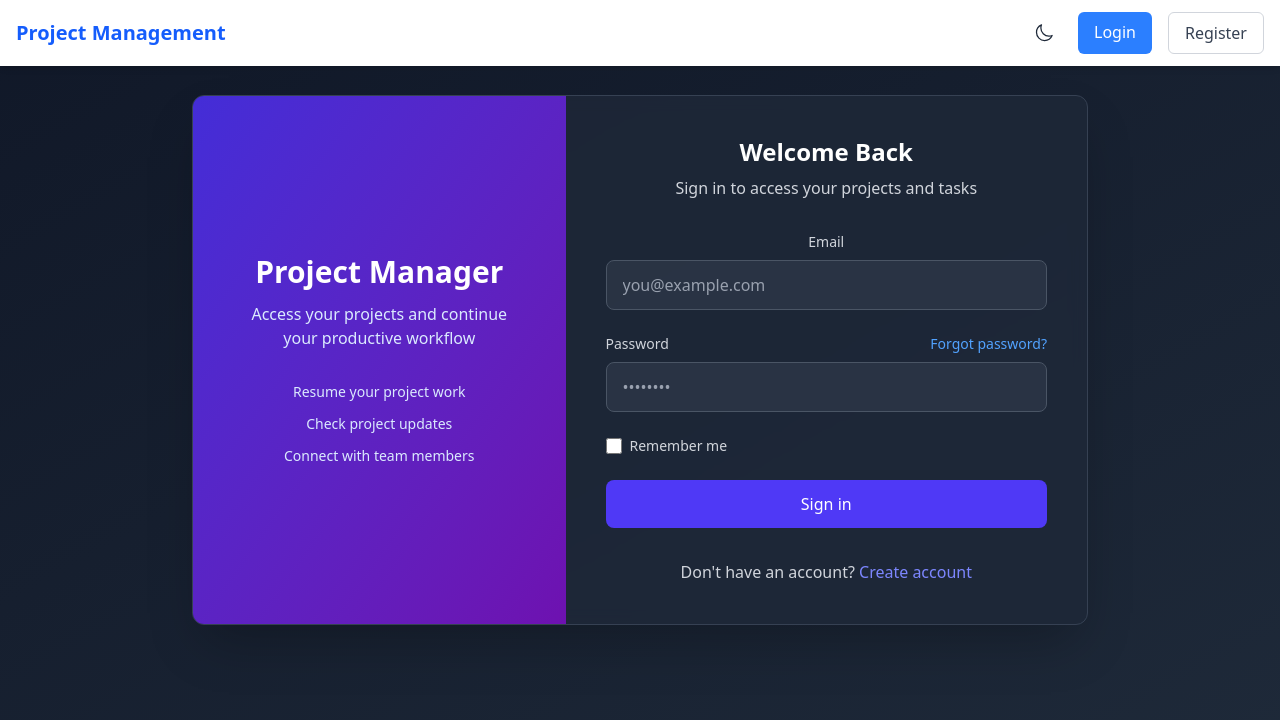
Test case: Authentication Tests › Login Page › should show error message with invalid credentials
The width and height of the screenshot is (1280, 720).
Type "invalid@example.com" into the field labelled "Email" at (827, 285), box left=606, top=260, right=1048, bottom=310
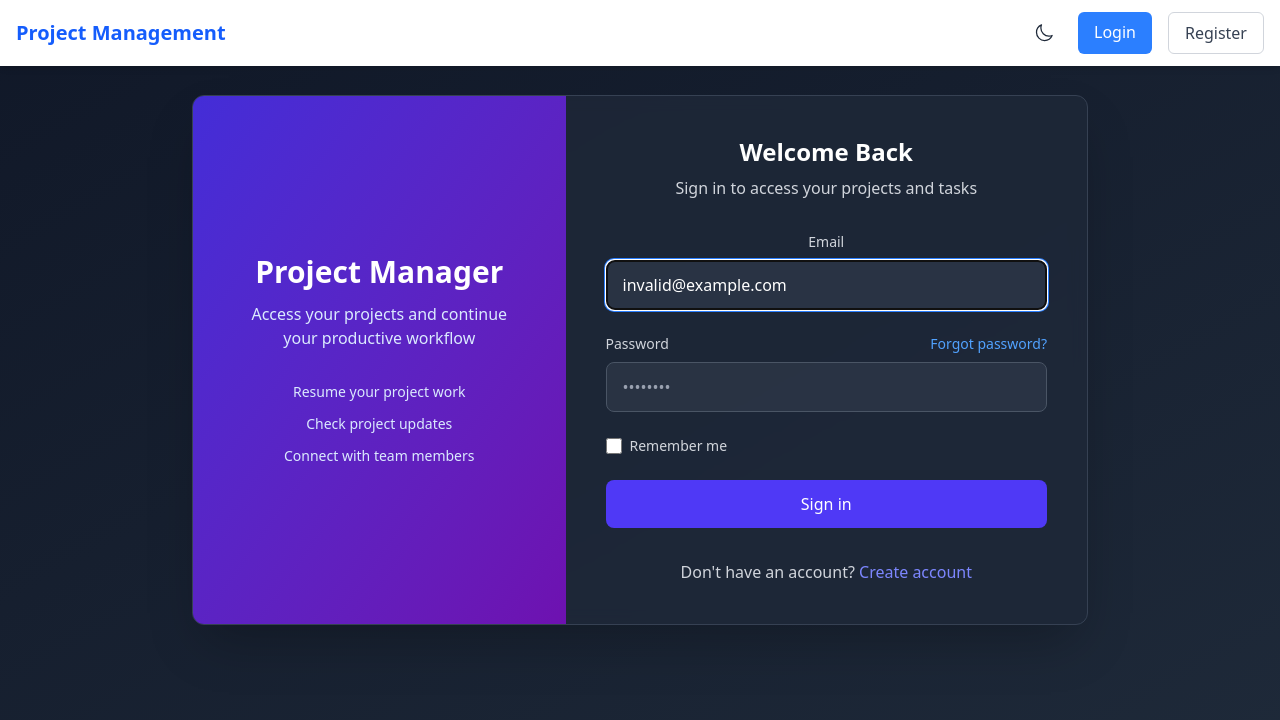
Type "wrongpassword" into the password field labelled "Password" at (827, 387), box left=606, top=362, right=1048, bottom=412
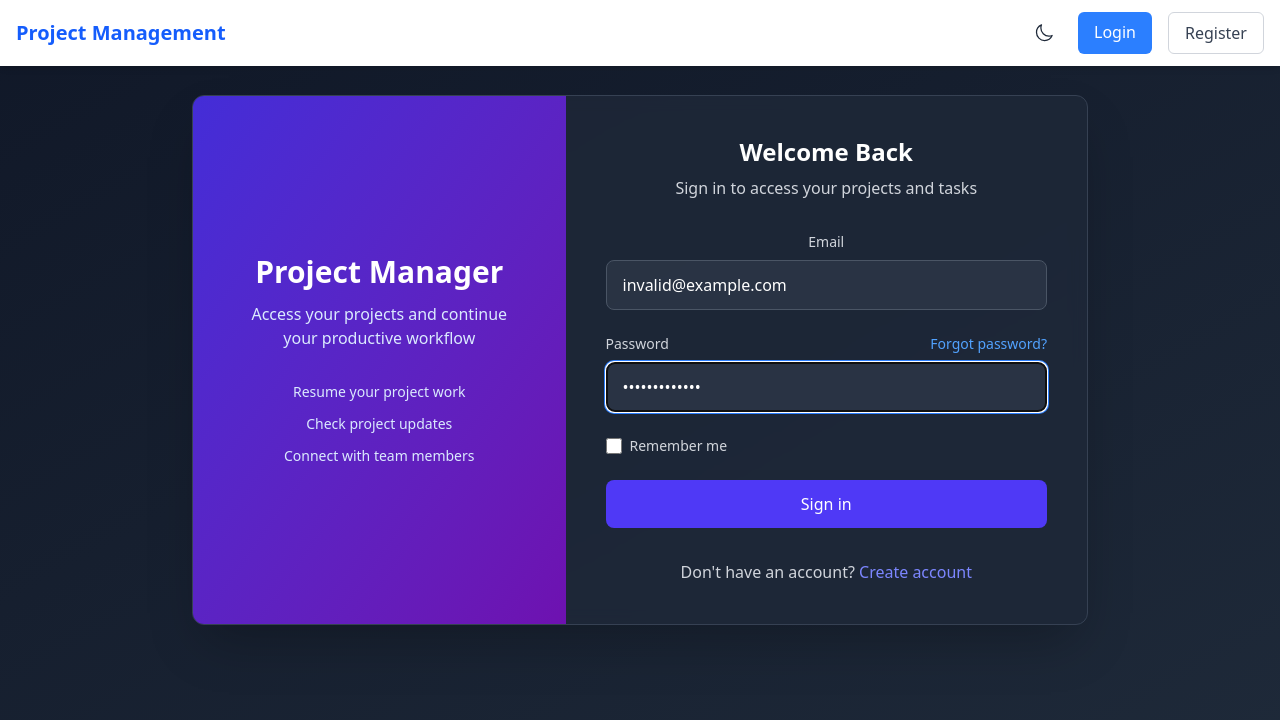
Click the button "Sign in" at (827, 504), box left=606, top=480, right=1048, bottom=528
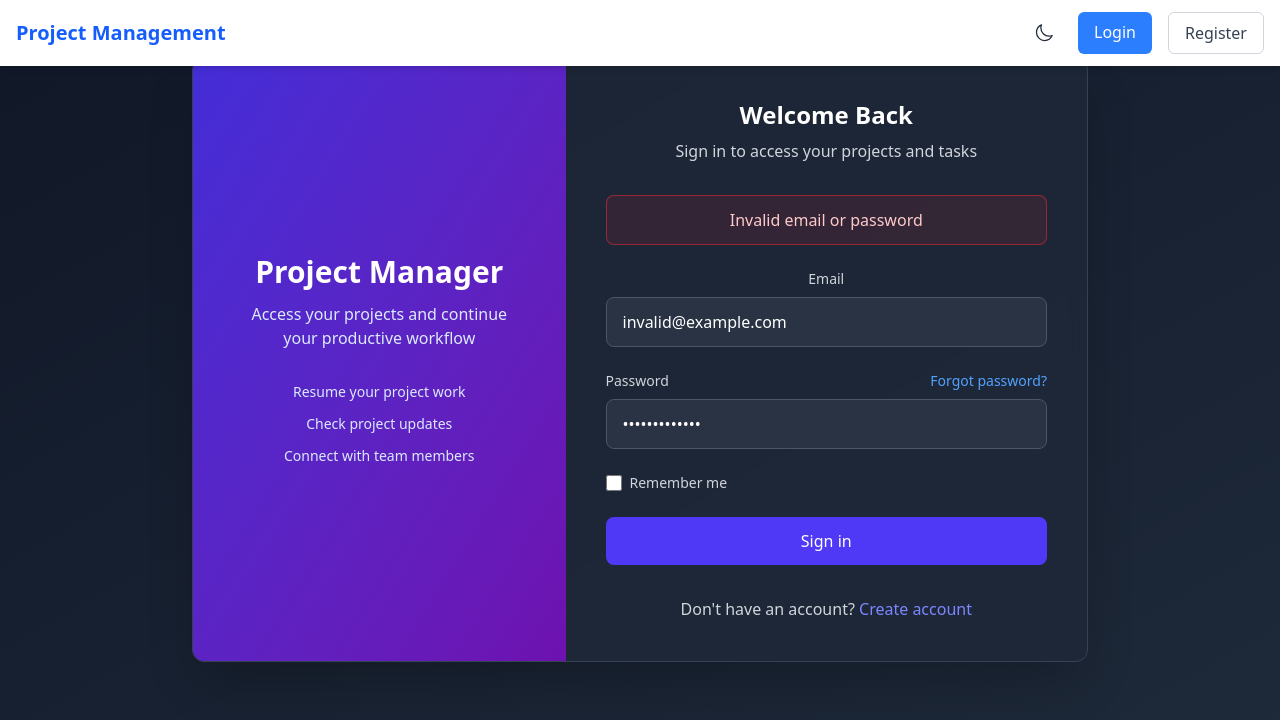
Expected: the text "Invalid email or password" is shown, left=606, top=195, right=1047, bottom=245
